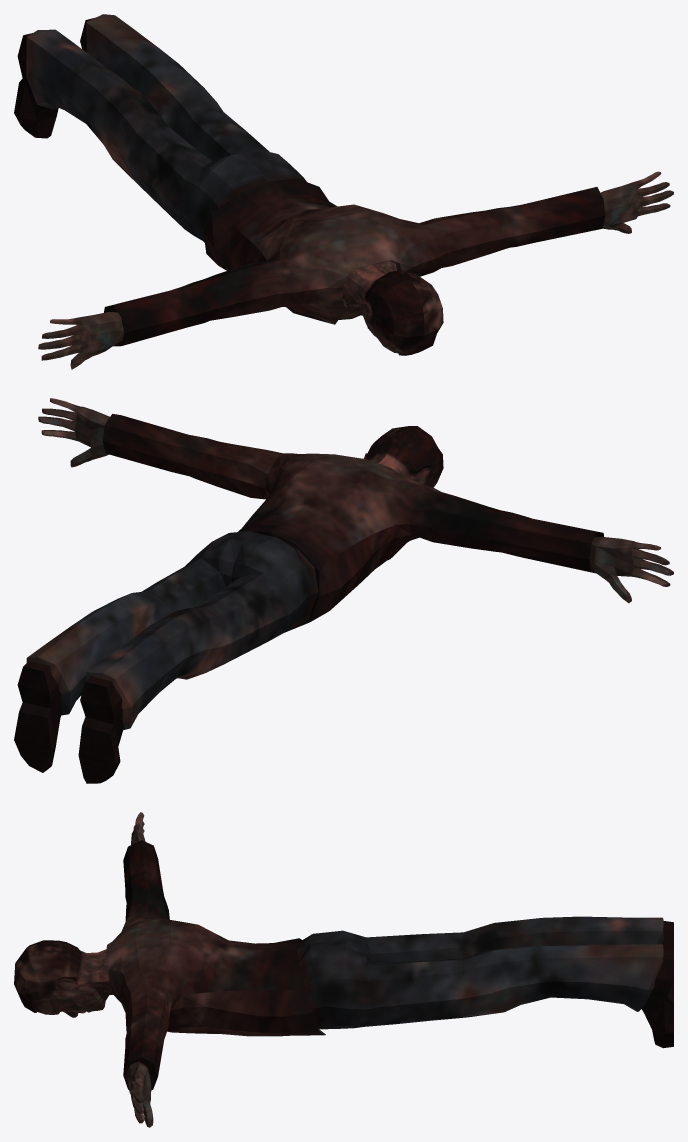
The model's file is tomdrinman5_3kslimed_wtf.obj.
3 renders of one model, top to bottom at view 1: azimuth 30°, elevation 25°; view 2: azimuth 150°, elevation 25°; view 3: azimuth 270°, elevation 25°, orthographic. The views are drawn at different scales.
Visible parts, largest first — view 1: group1; view 2: group1; view 3: group1.
Boxes of the visible parts, x1,y1,x2,y2 form: group1: (14, 14, 673, 369); group1: (14, 398, 673, 783); group1: (14, 812, 673, 1127).
Bounding box in the file's own units: 660 × 113 × 647.
